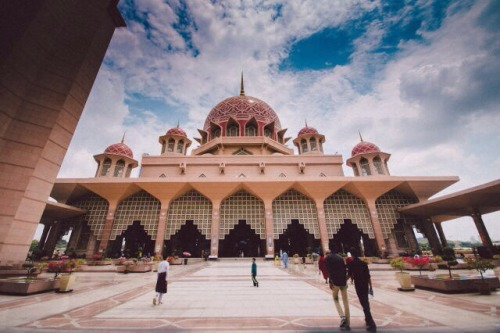Mosque: (71, 78, 401, 234)
